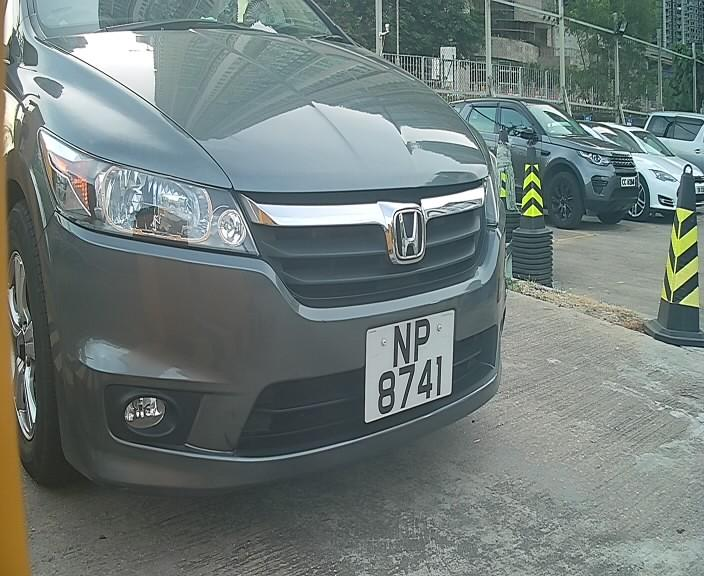License Plate: (353, 304, 463, 427)
